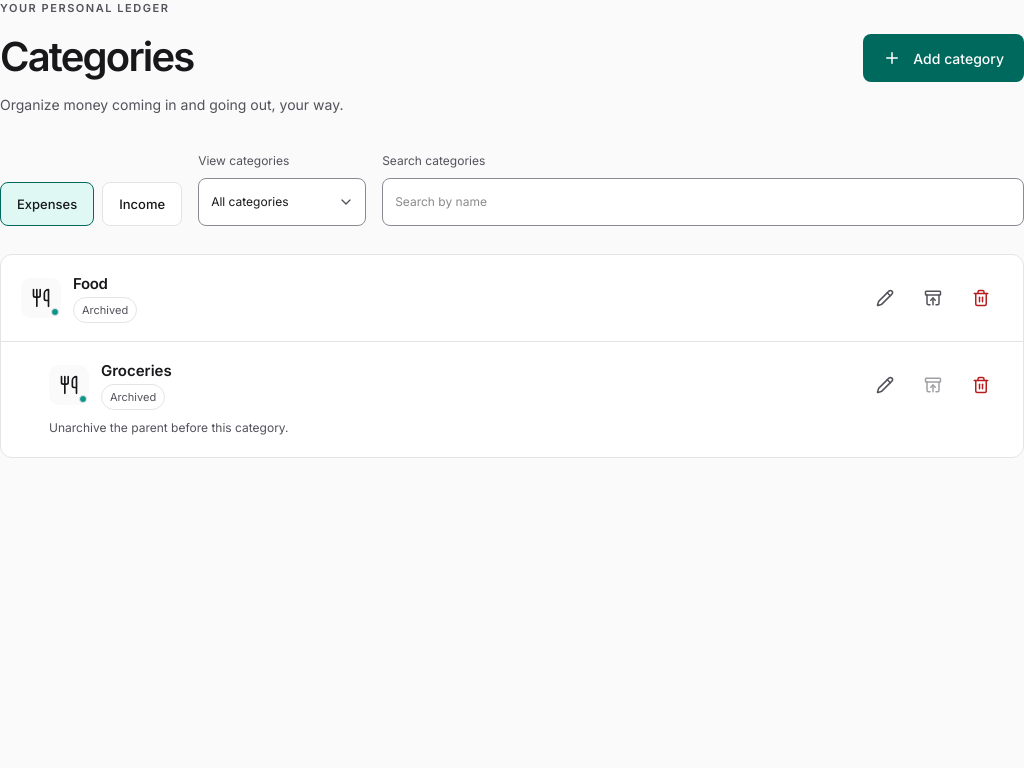
Scenario: offers labeled icon actions and requires the parent to be unarchived first
The width and height of the screenshot is (1024, 768).
Expected: the element "Food" is shown, x1=21 y1=274 x2=1003 y2=323
Expected: the button named "Edit Food" is empty, x1=863 y1=276 x2=907 y2=320
Click the button named "Unarchive Food". click: (933, 298)
box: x1=911 y1=276 x2=955 y2=320
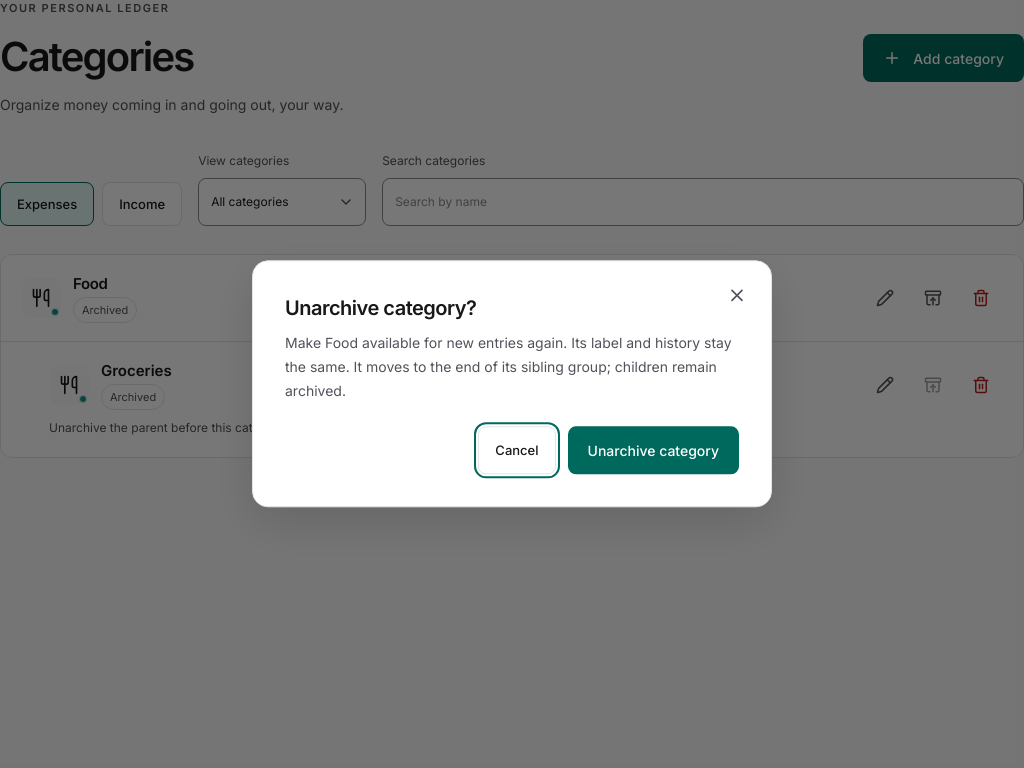
Click the button "Unarchive category". click: (653, 451)
box: x1=568 y1=427 x2=739 y2=475
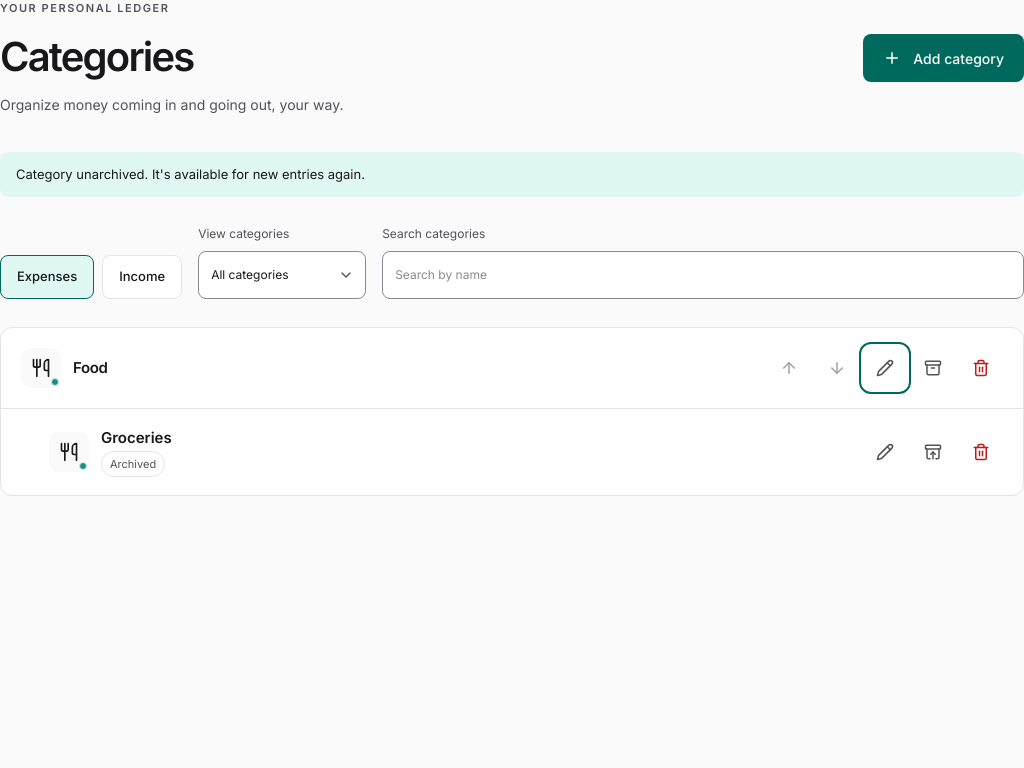
Now the button named "Unarchive Groceries" is enabled
Click the button named "Unarchive Groceries". click: (933, 452)
box: x1=911 y1=430 x2=955 y2=474
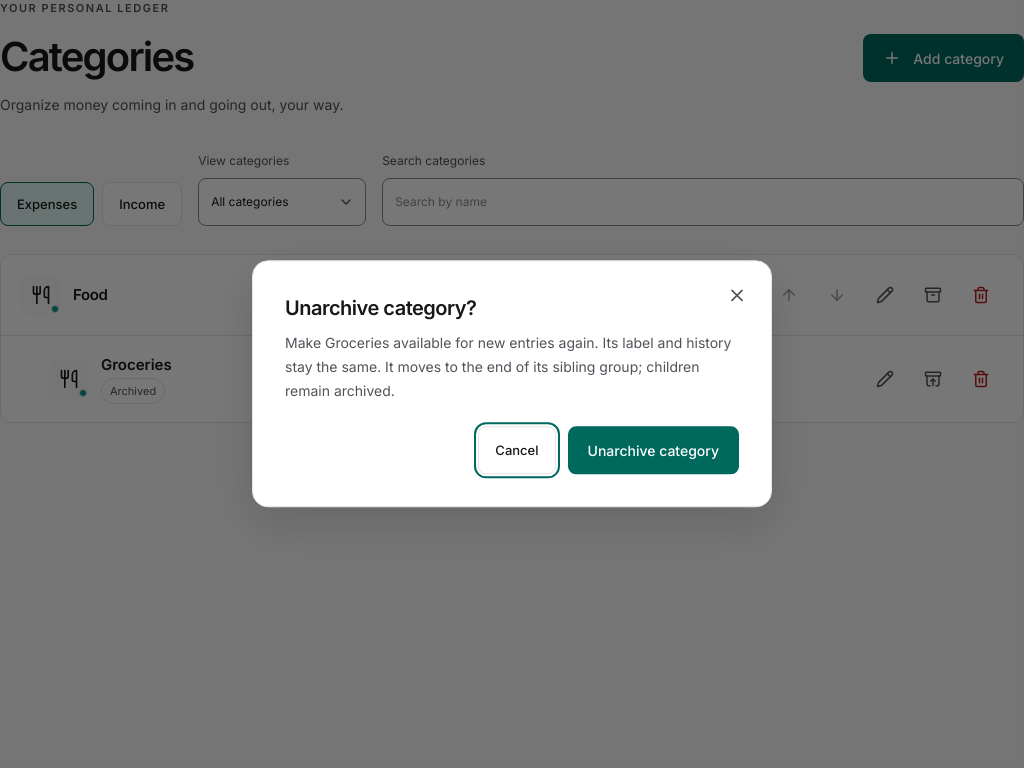
Click the button "Unarchive category". click: (653, 451)
box: x1=568 y1=427 x2=739 y2=475
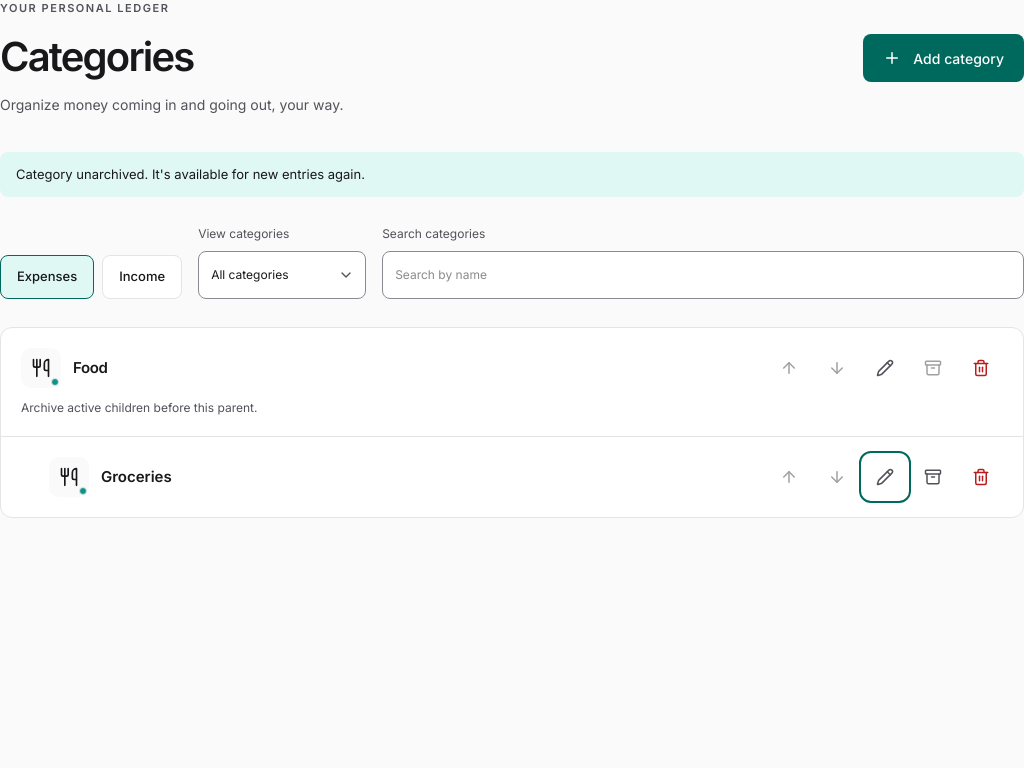
Now the button named "Archive Groceries" is enabled, box x1=911 y1=456 x2=955 y2=500
Now the button named "Archive Food" is disabled, box x1=911 y1=346 x2=955 y2=390
Now the heading "Unarchive " is gone
